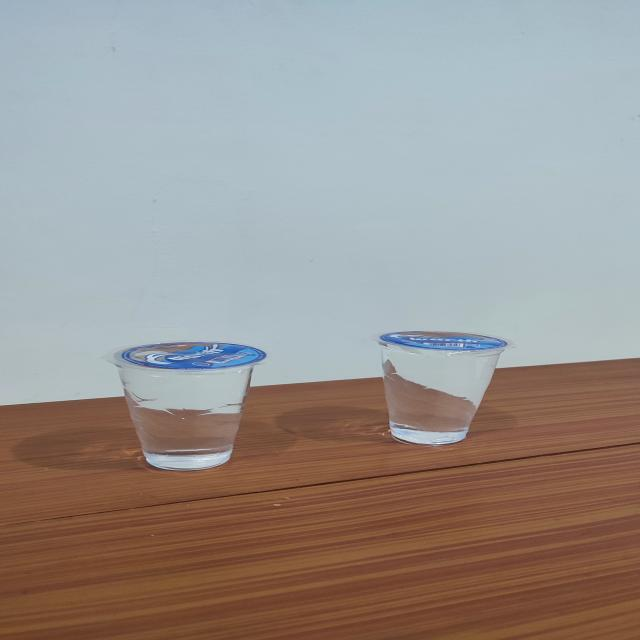air gelas: (95, 330, 278, 478), (380, 325, 516, 449)
